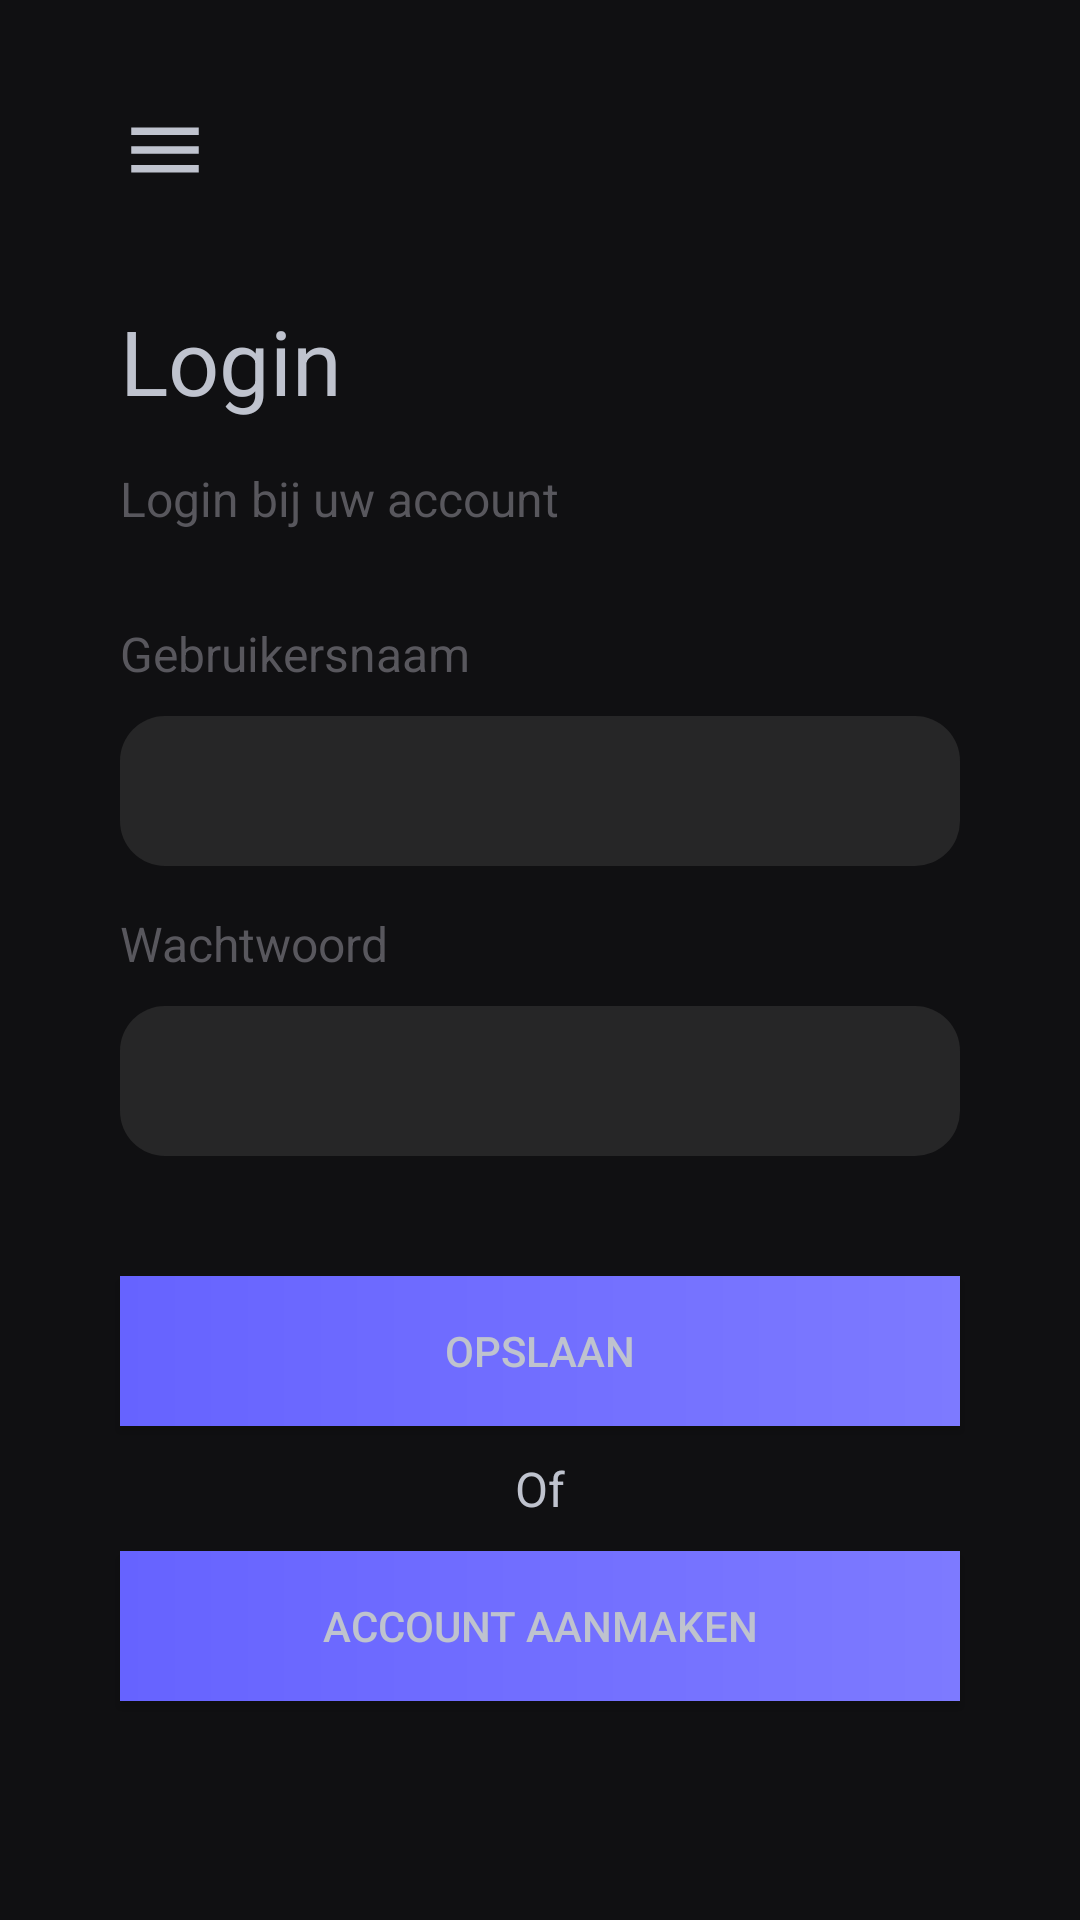

Where to tap for icons on this 1080px×1920px app screen, as point (x, y):
menu: point (165, 150)
